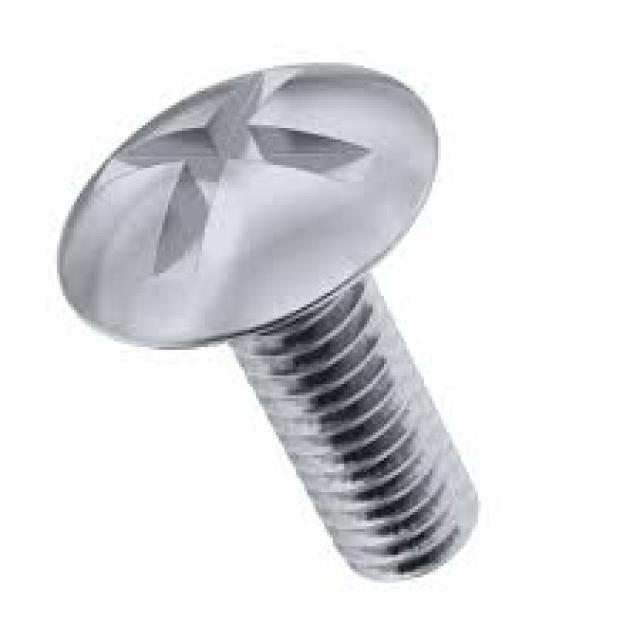Screw: (60, 63, 484, 586)
